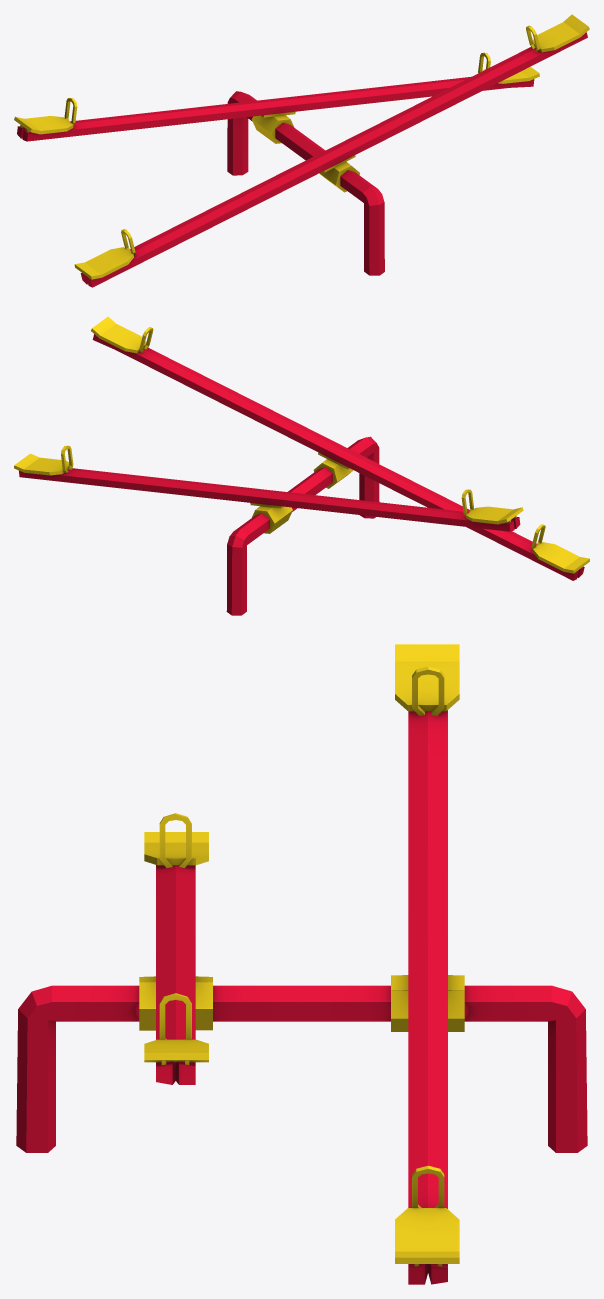
The model's file is 7125cc39-7cb1-4adb-86a5-44313d457ba7.glb.
The picture shows the model from 3 angles, top to bottom: view 1: azimuth 30°, elevation 25°; view 2: azimuth 150°, elevation 25°; view 3: azimuth 270°, elevation 25°; orthographic projection. The views are drawn at different scales.
Visible parts, largest first — view 1: SeeSaw_Mesh; view 2: SeeSaw_Mesh; view 3: SeeSaw_Mesh.
Part boxes in pixels (x1,y1,x2,y2): SeeSaw_Mesh: (14,14,589,287); SeeSaw_Mesh: (14,316,589,615); SeeSaw_Mesh: (16,644,587,1284).
Size of the model in its own units: 9.52 by 3.05 by 4.74.
1 material, 1 textured.
